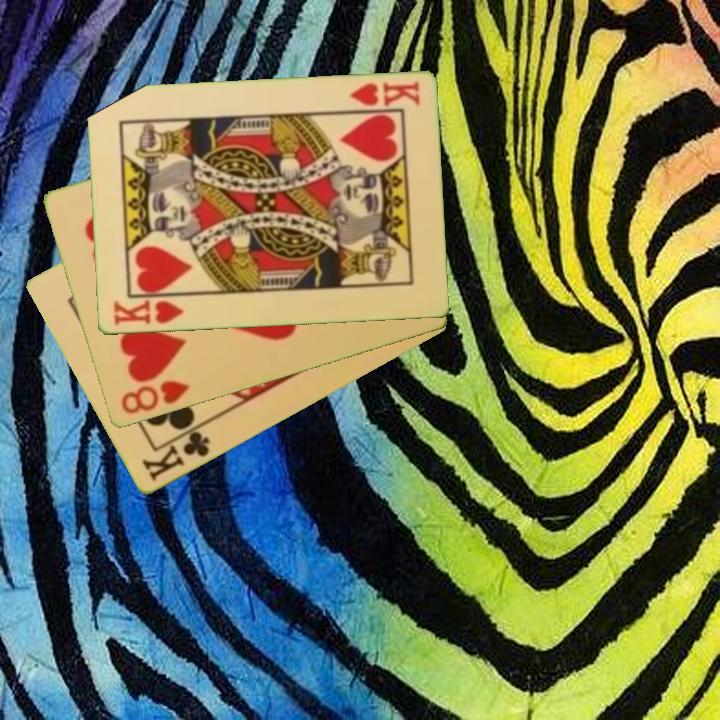8h: (117, 377, 192, 418)
Kc: (138, 421, 213, 485)
Kh: (109, 292, 190, 329), (345, 78, 422, 110)
